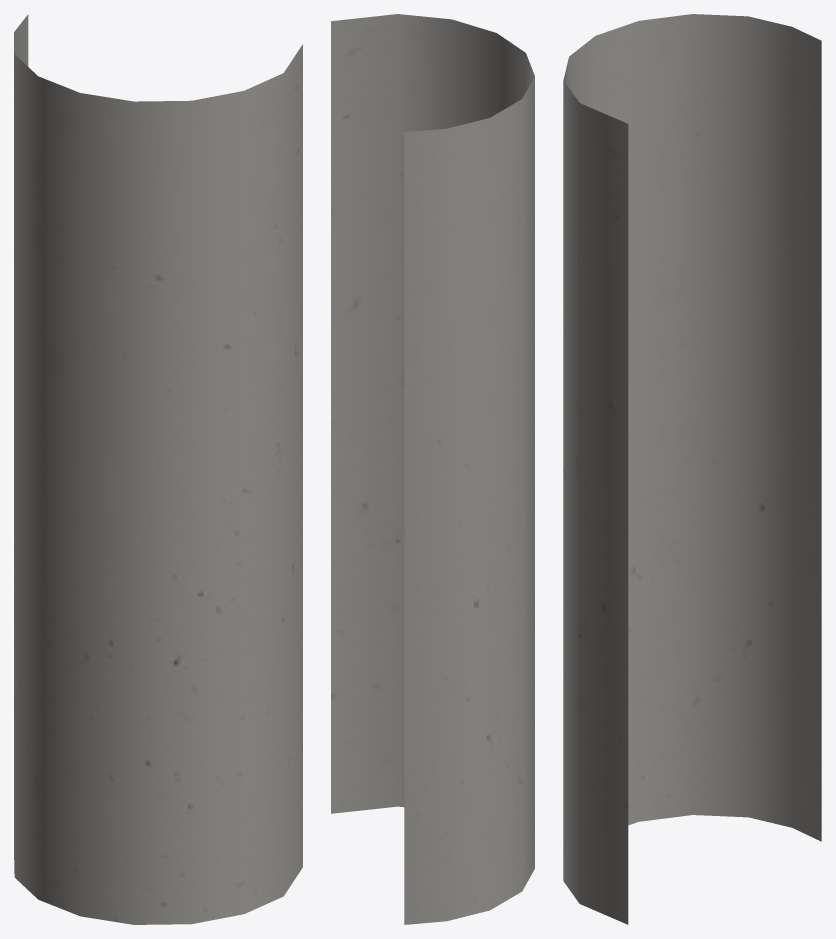
File: BedroomPillars.fbx
The picture shows the model from 3 angles, left to right: view 1: azimuth 30°, elevation 25°; view 2: azimuth 150°, elevation 25°; view 3: azimuth 270°, elevation 25°; orthographic projection. The views are drawn at different scales.
Parts seen in each view (by area): view 1: BedroomPillars; view 2: BedroomPillars; view 3: BedroomPillars.
Boxes of the visible parts, x1,y1,x2,y2 form: BedroomPillars: (14, 14, 302, 924); BedroomPillars: (331, 14, 534, 924); BedroomPillars: (563, 14, 821, 924).
Bounding box in the file's own units: 83.82 × 285 × 83.13.
